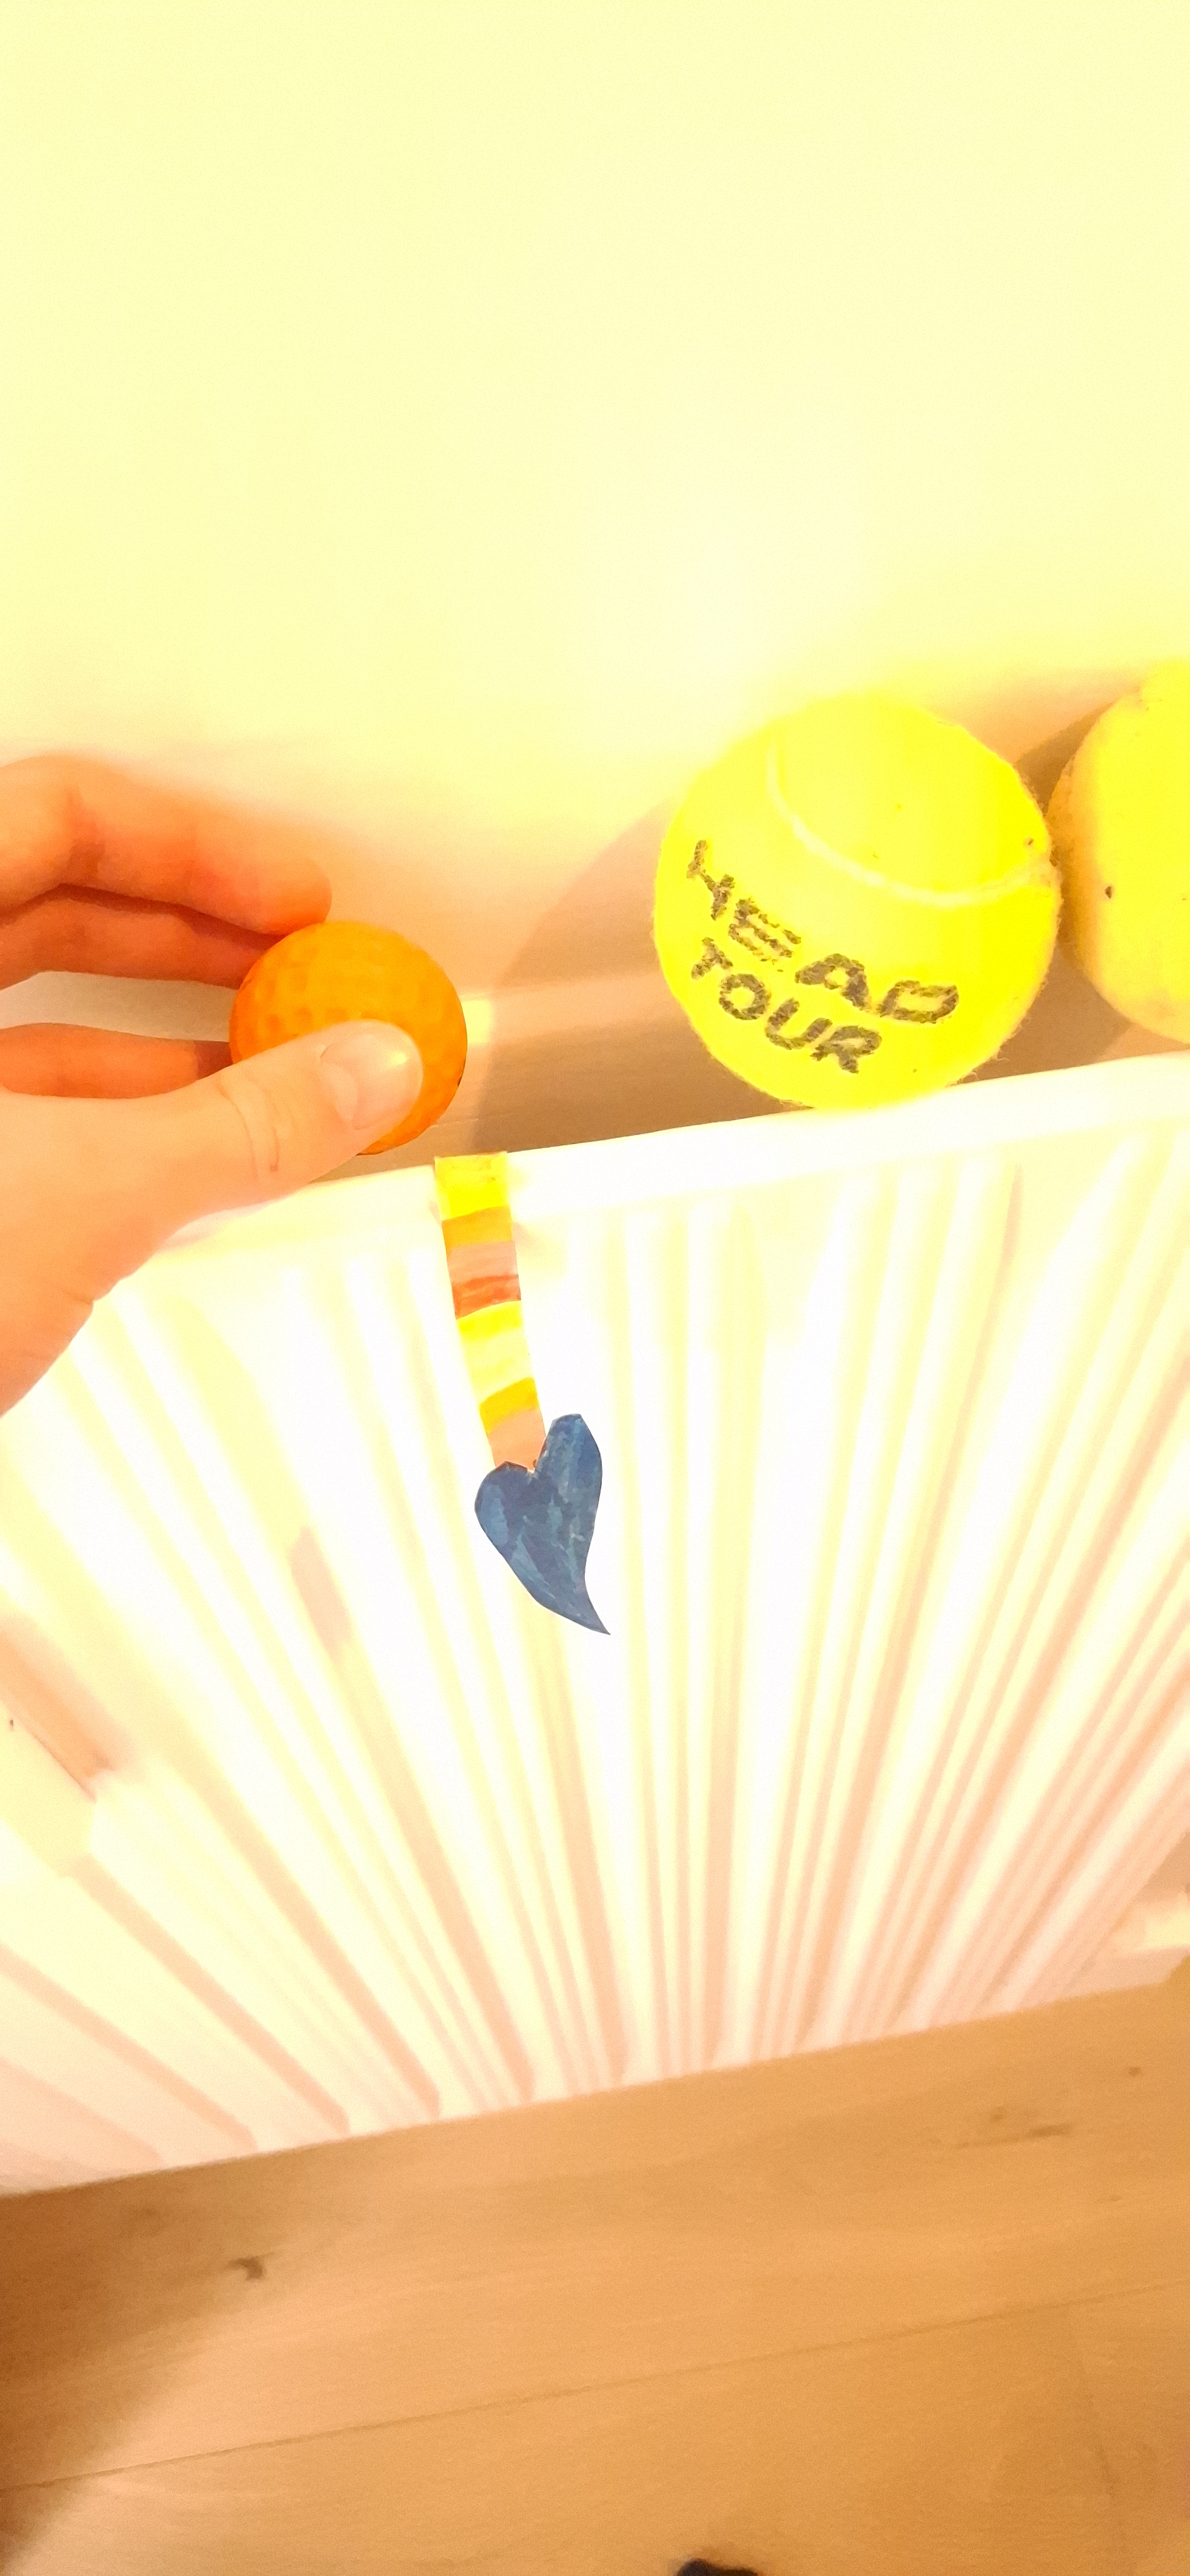ball: (426, 1564, 536, 2083)
